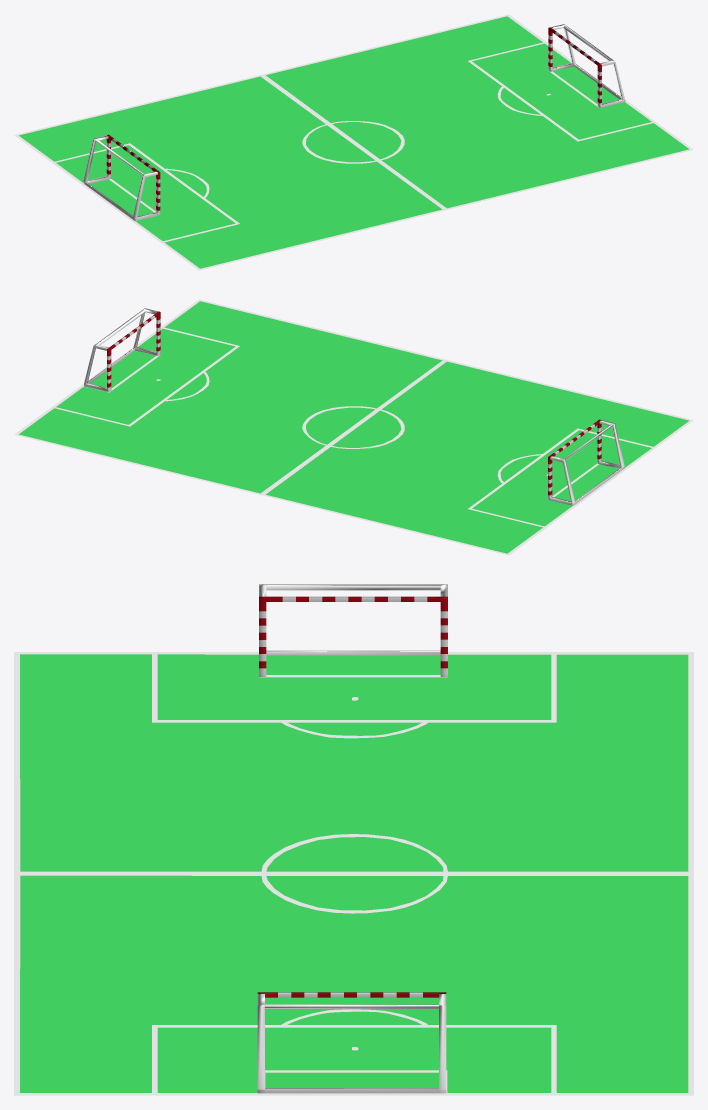
Rendered from football_field2.glb.
3 views of the same model, one above another, from view 1: azimuth 30°, elevation 25°; view 2: azimuth 150°, elevation 25°; view 3: azimuth 270°, elevation 25° (orthographic). The views are drawn at different scales.
Parts seen in each view (by area): view 1: Plane, Cube, Cube.001; view 2: Plane, Cube, Cube.001; view 3: Plane, Cube, Cube.001.
Boxes of the visible parts, x1=… form: Plane: x1=14, y1=14, x2=693, y2=270; Cube: x1=83, y1=134, x2=160, y2=220; Cube.001: x1=548, y1=24, x2=625, y2=107; Plane: x1=14, y1=299, x2=693, y2=555; Cube: x1=548, y1=419, x2=624, y2=505; Cube.001: x1=84, y1=308, x2=160, y2=392; Plane: x1=14, y1=652, x2=693, y2=1095; Cube: x1=259, y1=584, x2=447, y2=676; Cube.001: x1=257, y1=992, x2=446, y2=1093.
Bounding box in the file's own units: 1675 × 138 × 1085.
